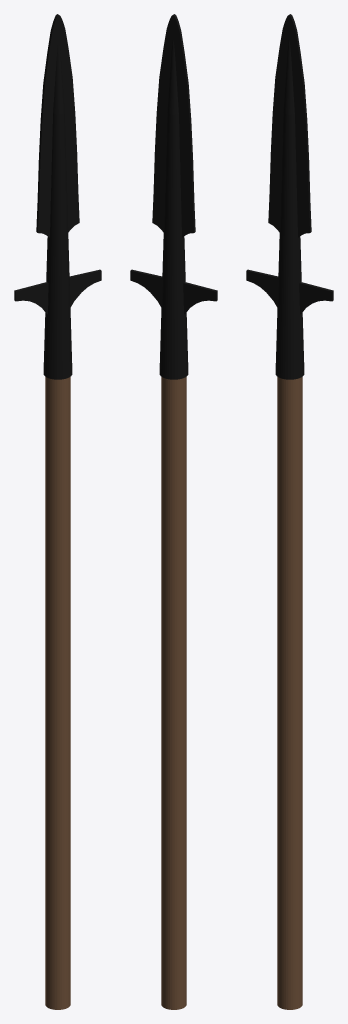
The model's file is SP_Iron Spear.fbx.
3 renders of one model, left to right at view 1: azimuth 30°, elevation 25°; view 2: azimuth 150°, elevation 25°; view 3: azimuth 330°, elevation 25°, orthographic.
Visible parts, largest first — view 1: Cylinder, Cylinder.001; view 2: Cylinder, Cylinder.001; view 3: Cylinder, Cylinder.001.
Part boxes in pixels (bbox=[...]): Cylinder: bbox=[45, 377, 70, 1009]; Cylinder.001: bbox=[14, 14, 101, 379]; Cylinder: bbox=[161, 377, 186, 1009]; Cylinder.001: bbox=[130, 14, 217, 379]; Cylinder: bbox=[277, 377, 302, 1009]; Cylinder.001: bbox=[246, 14, 333, 379].
Size of the model in its own units: 12.61 by 139 by 3.69.
